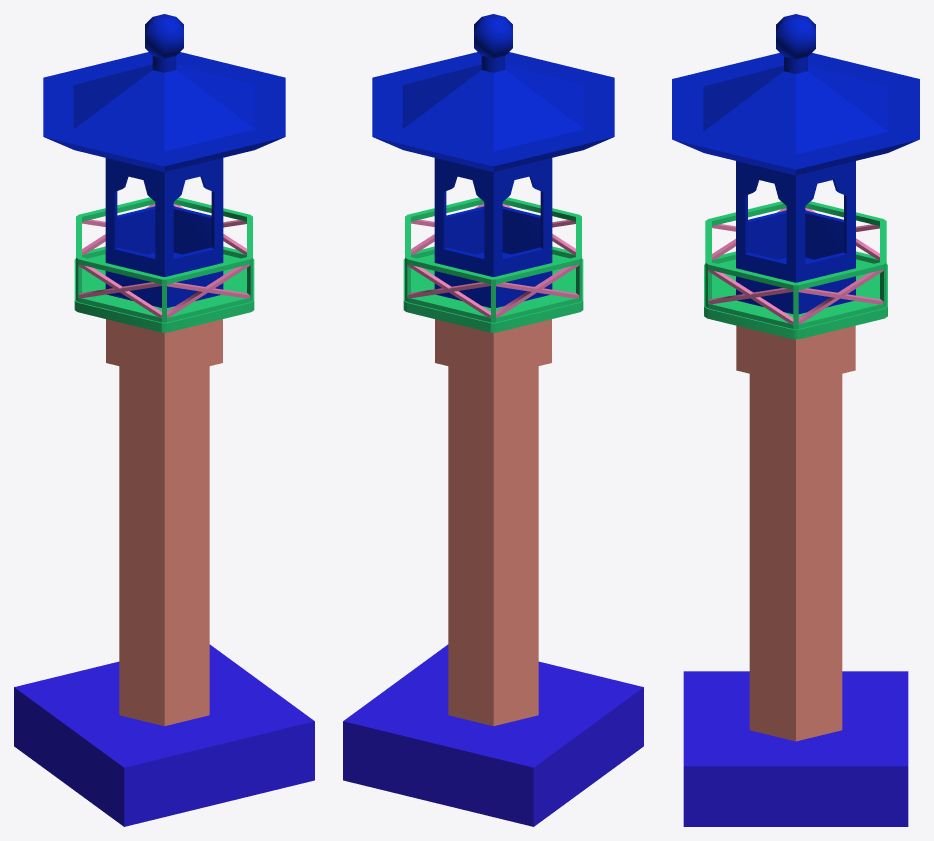
Rendered from Toro.FBX.
The picture shows the model from 3 angles, left to right: view 1: azimuth 30°, elevation 25°; view 2: azimuth 150°, elevation 25°; view 3: azimuth 270°, elevation 25°; orthographic projection. The views are drawn at different scales.
Parts seen in each view (by area): view 1: Cylinder236, Cylinder238, Box618, Cylinder237, Box620, Box619; view 2: Cylinder236, Cylinder238, Box618, Cylinder237, Box622, Box621; view 3: Cylinder236, Cylinder238, Box618, Cylinder237, Box623, Box624.
Part boxes in pixels (x1,y1,x2,y2): Cylinder236: (106, 319, 222, 726); Cylinder238: (43, 14, 285, 307); Box618: (14, 644, 314, 826); Cylinder237: (74, 197, 254, 332); Box620: (78, 264, 161, 317); Box619: (167, 264, 250, 317); Cylinder236: (435, 319, 551, 726); Cylinder238: (372, 14, 614, 307); Box618: (343, 644, 643, 826); Cylinder237: (403, 197, 583, 332); Box622: (407, 264, 490, 317); Box621: (496, 264, 579, 317); Cylinder236: (736, 325, 855, 741); Cylinder238: (672, 14, 919, 314); Box618: (683, 671, 908, 826); Cylinder237: (704, 201, 887, 339); Box623: (798, 269, 883, 323); Box624: (708, 269, 793, 323).
Bounding box in the file's own units: 21.09 × 61.98 × 18.26.
